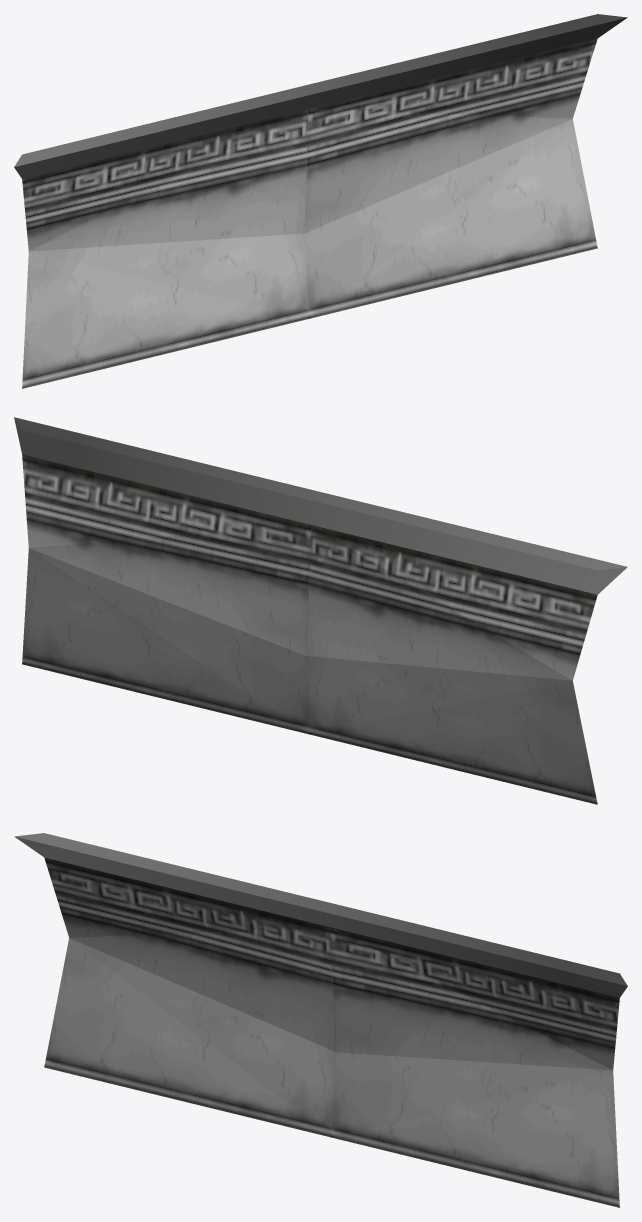
The model's file is W_A1_xxxx [Marmor]_3.glb.
3 views of the same model, one above another, from view 1: azimuth 30°, elevation 25°; view 2: azimuth 150°, elevation 25°; view 3: azimuth 330°, elevation 25° (orthographic).
Parts seen in each view (by area): view 1: polySurfaceShape787, polySurfaceShape1065; view 2: polySurfaceShape787, polySurfaceShape1065; view 3: polySurfaceShape787, polySurfaceShape1065.
Boxes of the visible parts, box(x1,y1,x2,y2) form: polySurfaceShape787: box(22, 38, 597, 388); polySurfaceShape1065: box(14, 14, 627, 178); polySurfaceShape787: box(22, 454, 597, 804); polySurfaceShape1065: box(14, 417, 627, 594); polySurfaceShape787: box(44, 857, 619, 1207); polySurfaceShape1065: box(14, 833, 627, 997).
Size of the model in its own units: 1.07 by 0.3891 by 0.0607.
Materials: 2 (2 with a texture image).
